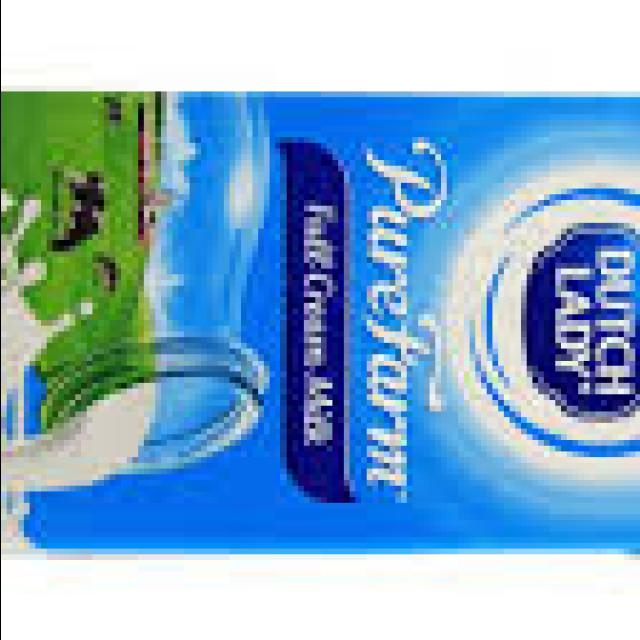milk: (0, 57, 640, 594)
